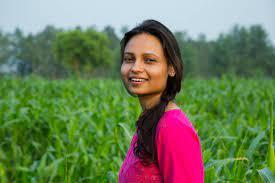Human: (99, 16, 214, 183)
